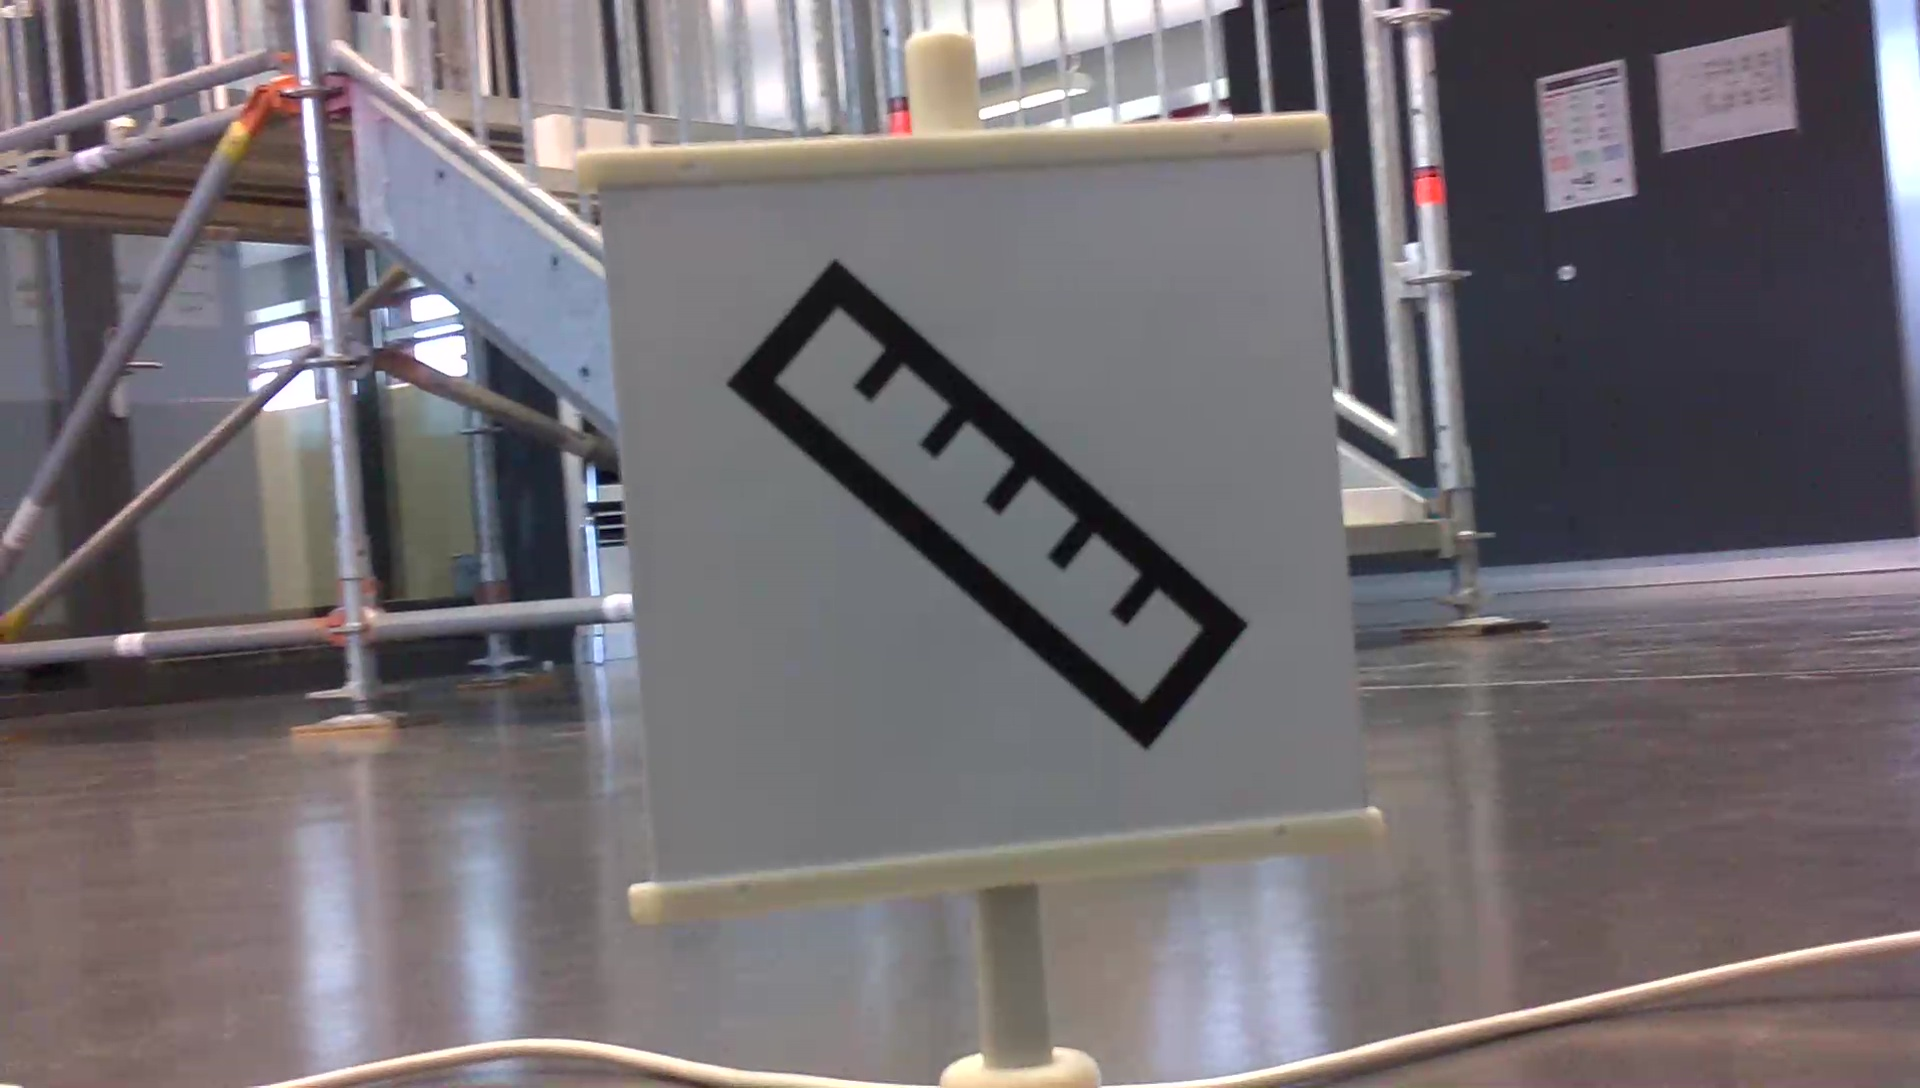ruler: (725, 253, 1247, 746)
